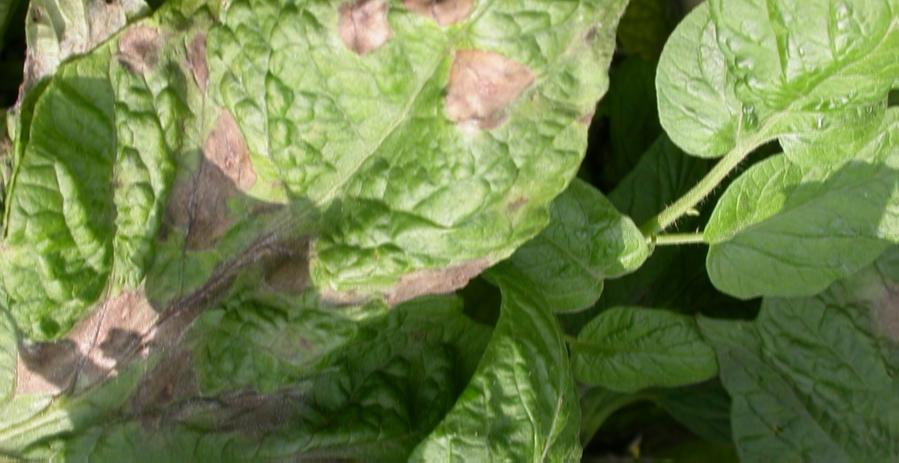Tomato leaf late blight: (0, 0, 643, 463), (717, 240, 899, 463)
